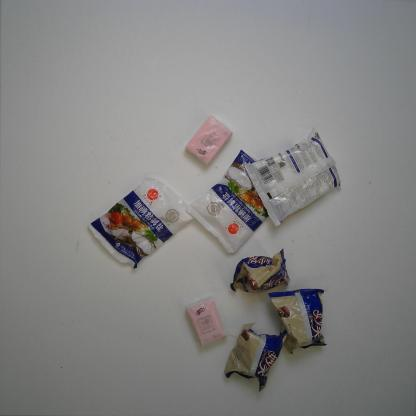Dessert: (223, 322, 289, 394), (266, 284, 329, 355), (228, 247, 292, 298)
Seasoner: (86, 169, 198, 272), (184, 146, 286, 254), (246, 128, 345, 231)
Tissue: (183, 112, 234, 167), (184, 296, 229, 350)
